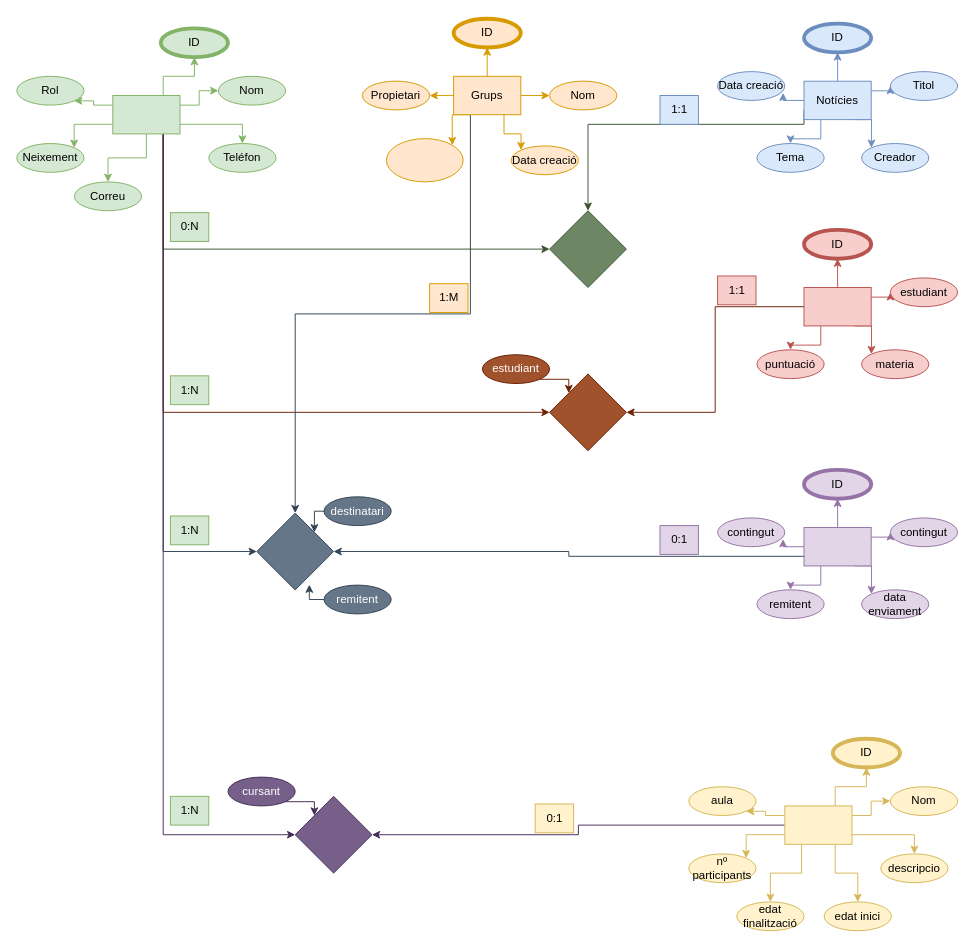
This 974x948 diagram has some shape labels left out. Here are the shapes that lost their labels. From the top down, the box of each, then its label:
(112, 95, 180, 134): Usuaris
(385, 138, 463, 182): núm. Participants
(549, 210, 626, 288): 1:N informar
(803, 287, 871, 326): Nota
(549, 373, 626, 451): 1:N puntuar
(256, 512, 334, 590): 1:N:M enviar
(803, 527, 871, 566): missatge
(294, 795, 372, 873): 1:N cursar
(784, 805, 852, 844): curs
